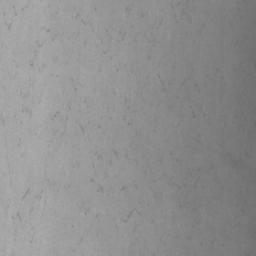Silk spot: (122, 208, 142, 223), (22, 108, 32, 118), (12, 212, 22, 222), (22, 188, 30, 200)
